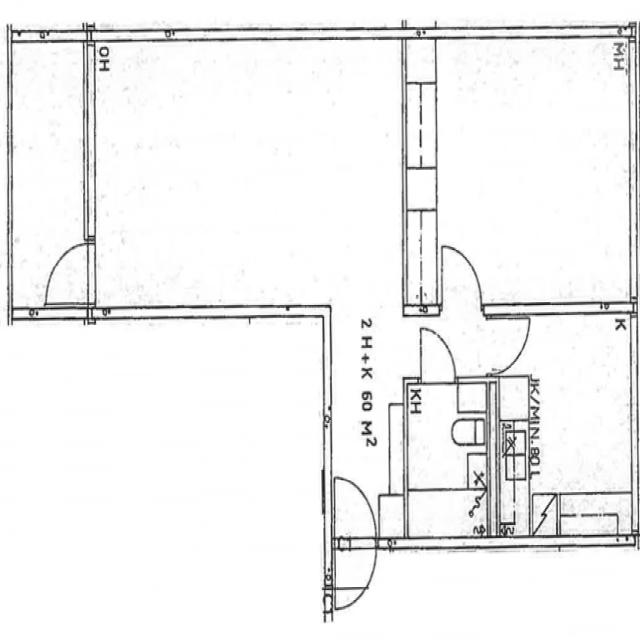door: (332, 472, 377, 578), (437, 239, 483, 314), (44, 237, 90, 307), (489, 311, 533, 374), (417, 324, 459, 387)
zone: (86, 44, 384, 316), (432, 35, 634, 307), (506, 312, 634, 499), (8, 32, 87, 304), (406, 381, 491, 544), (406, 486, 488, 543), (404, 204, 440, 316), (558, 494, 634, 541)
